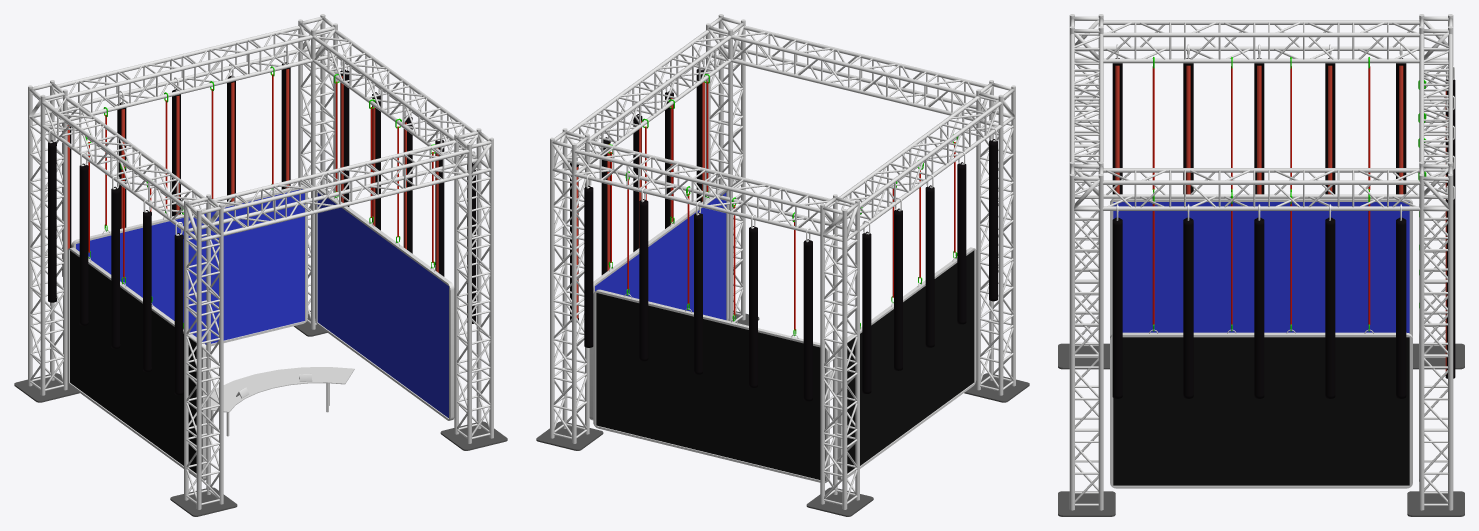
Rendered from Large.fbx.
The picture shows the model from 3 angles, left to right: view 1: azimuth 30°, elevation 25°; view 2: azimuth 150°, elevation 25°; view 3: azimuth 270°, elevation 25°; orthographic projection. The views are drawn at different scales.
Parts seen in each view (by area): view 1: Truss, Post, Post_2, Post_3, Truss_3, Light, Truss_6, Truss_5, Truss_4, Truss_2, Light_2, Light_3 (+2 smaller); view 2: Post_2, Truss, Post_3, Post, Truss_3, Light, Light_3, Truss_6, Truss_5, Truss_4, Truss_2, Light_2 (+1 smaller); view 3: Post, Post_3, Truss, Truss_2, Light_2, Light, Truss_6, Truss_5, Truss_4, Truss_7, Truss_3, Light_3.
Boxes of the visible parts, x1=… form: Truss: x1=28, y1=50, x2=493, y2=509; Post: x1=315, y1=74, x2=454, y2=420; Post_2: x1=71, y1=66, x2=307, y2=346; Post_3: x1=67, y1=136, x2=206, y2=480; Truss_3: x1=56, y1=26, x2=469, y2=235; Light: x1=48, y1=129, x2=183, y2=395; Truss_6: x1=44, y1=31, x2=475, y2=224; Truss_5: x1=54, y1=28, x2=466, y2=231; Truss_4: x1=28, y1=14, x2=493, y2=244; Truss_2: x1=42, y1=30, x2=476, y2=231; Light_2: x1=340, y1=60, x2=475, y2=323; Light_3: x1=62, y1=50, x2=290, y2=276; Post_2: x1=593, y1=171, x2=829, y2=482; Truss: x1=550, y1=49, x2=1015, y2=509; Post_3: x1=837, y1=134, x2=976, y2=480; Post: x1=589, y1=74, x2=728, y2=420; Truss_3: x1=574, y1=26, x2=987, y2=235; Light: x1=862, y1=127, x2=997, y2=393; Light_3: x1=584, y1=174, x2=812, y2=401; Truss_6: x1=565, y1=31, x2=998, y2=230; Truss_5: x1=577, y1=28, x2=989, y2=231; Truss_4: x1=550, y1=14, x2=1015, y2=244; Truss_2: x1=567, y1=30, x2=1001, y2=231; Light_2: x1=570, y1=56, x2=705, y2=322; Post: x1=1110, y1=192, x2=1412, y2=488; Post_3: x1=1110, y1=57, x2=1412, y2=337; Truss: x1=1069, y1=57, x2=1453, y2=510; Truss_2: x1=1102, y1=20, x2=1420, y2=210; Light_2: x1=1112, y1=204, x2=1406, y2=398; Light: x1=1112, y1=44, x2=1406, y2=194; Truss_6: x1=1105, y1=22, x2=1418, y2=207; Truss_5: x1=1074, y1=33, x2=1448, y2=196; Truss_4: x1=1069, y1=14, x2=1453, y2=213; Truss_7: x1=1058, y1=343, x2=1464, y2=516; Truss_3: x1=1070, y1=34, x2=1452, y2=161; Light_3: x1=1445, y1=65, x2=1455, y2=378.
Size of the model in its own units: 495 by 451 by 495.
